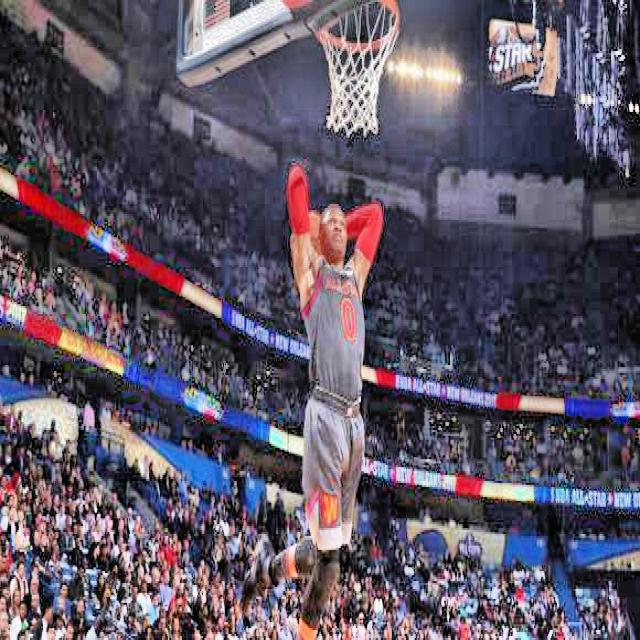rim: (319, 0, 399, 133)
